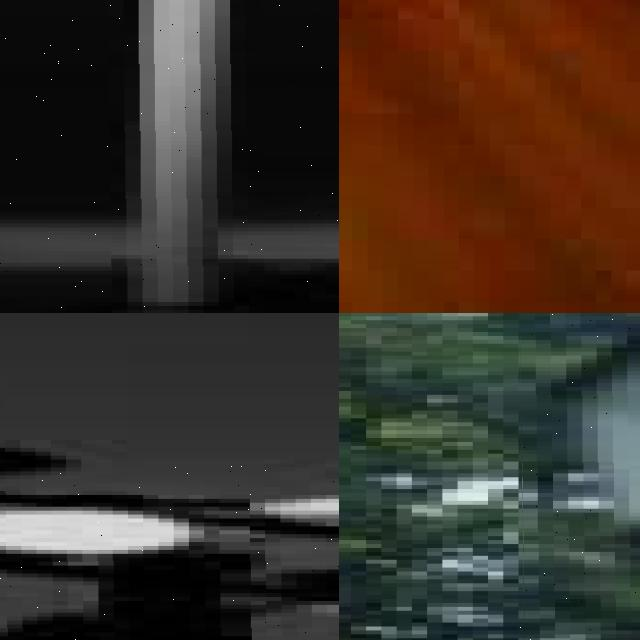street light: (0, 0, 339, 313), (0, 459, 339, 640), (518, 313, 640, 640)
